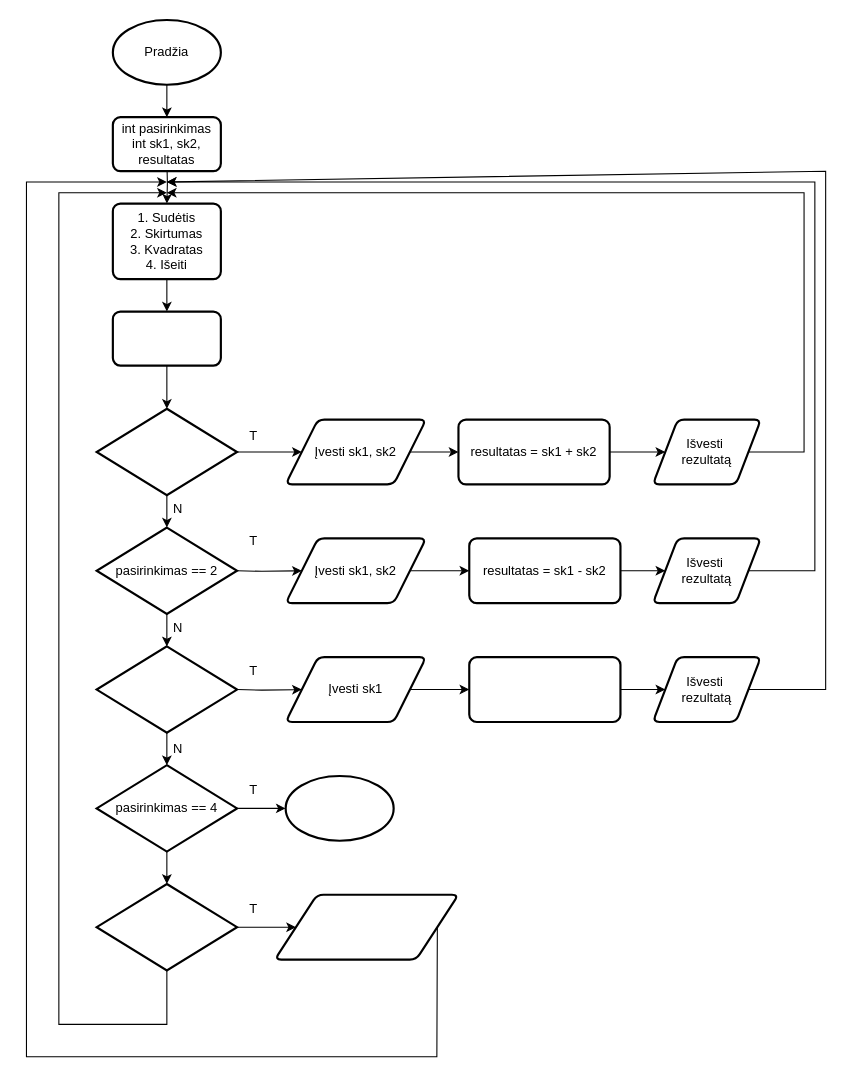
Some shapes in this 853 by 1084 pixel diagram are drawn without their labels. Here are the shapes that lost their labels. From the top down, the centre of each, then its label:
the point at 166,338: Įvesti pasirinkimo reikšmę
the point at 166,451: pasirinkimas == 1
the point at 166,689: pasirinkimas == 3
the point at 544,689: resultatas = sk1 * sk1
the point at 339,807: Pabaiga
the point at 166,926: pasirinkimas > 4
the point at 366,926: Išvesti klaidos pranešimą
